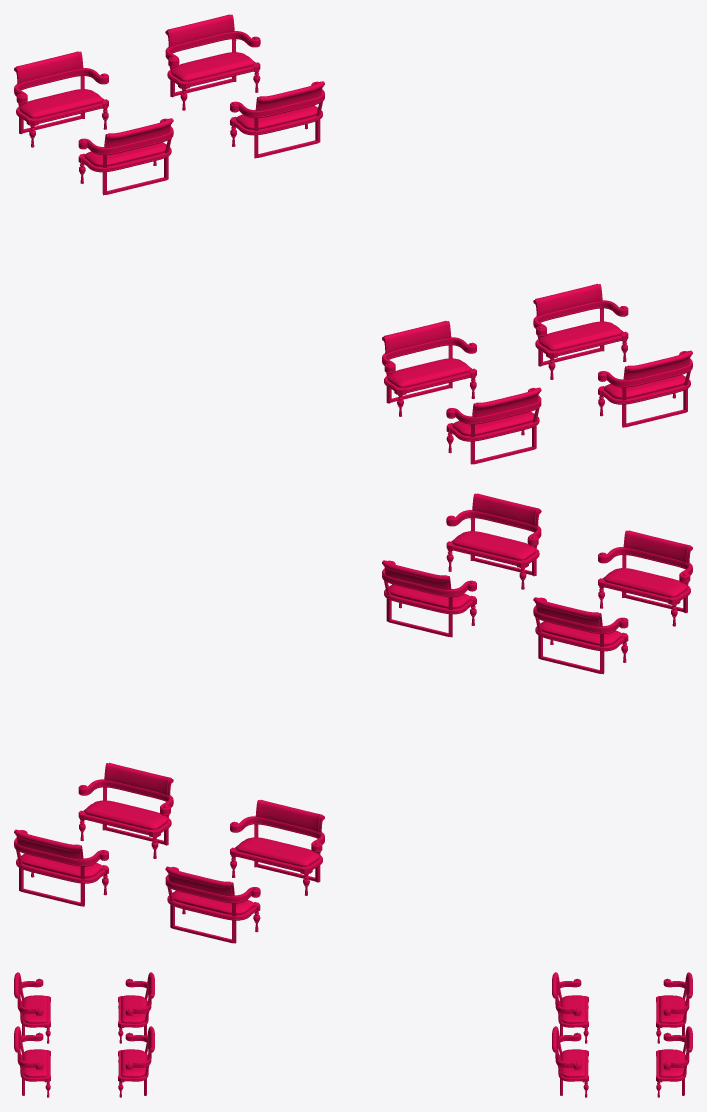
Rendered from F_Train seats (1).fbx.
The picture shows the model from 3 angles, top to bottom: view 1: azimuth 30°, elevation 25°; view 2: azimuth 150°, elevation 25°; view 3: azimuth 270°, elevation 25°; orthographic projection. The views are drawn at different scales.
Parts seen in each view (by area): view 1: NurbsPath.060, NurbsPath.066, Plane.047, Plane.048, NurbsPath.067, NurbsPath.061; view 2: NurbsPath.060, NurbsPath.066, Plane.047, Plane.048, NurbsPath.067, NurbsPath.061; view 3: NurbsPath.066, NurbsPath.060, Plane.047, Plane.048, NurbsPath.067, NurbsPath.061, Cylinder.009, Cylinder.010, Cube.087, Cube.145.
Part boxes in pixels (left/top/right/bottom): NurbsPath.060: left=78, top=82, right=628, bottom=403; NurbsPath.066: left=14, top=31, right=692, bottom=464; Plane.047: left=84, top=105, right=622, bottom=387; Plane.048: left=19, top=52, right=685, bottom=436; NurbsPath.067: left=16, top=14, right=691, bottom=417; NurbsPath.061: left=106, top=81, right=600, bottom=353; NurbsPath.060: left=78, top=561, right=628, bottom=882; NurbsPath.066: left=14, top=510, right=692, bottom=943; Plane.047: left=84, top=584, right=622, bottom=866; Plane.048: left=21, top=531, right=687, bottom=915; NurbsPath.067: left=15, top=493, right=690, bottom=896; NurbsPath.061: left=106, top=560, right=600, bottom=832; NurbsPath.066: left=17, top=979, right=689, bottom=1095; NurbsPath.060: left=118, top=979, right=588, bottom=1095; Plane.047: left=121, top=995, right=585, bottom=1077; Plane.048: left=22, top=995, right=684, bottom=1077; NurbsPath.067: left=14, top=973, right=692, bottom=1059; NurbsPath.061: left=147, top=973, right=559, bottom=1059; Cylinder.009: left=118, top=1006, right=588, bottom=1097; Cylinder.010: left=45, top=1027, right=661, bottom=1097; Cube.087: left=118, top=996, right=588, bottom=1082; Cube.145: left=44, top=996, right=662, bottom=1082.
Bounding box in the file's own units: 342 × 86.02 × 1136.
